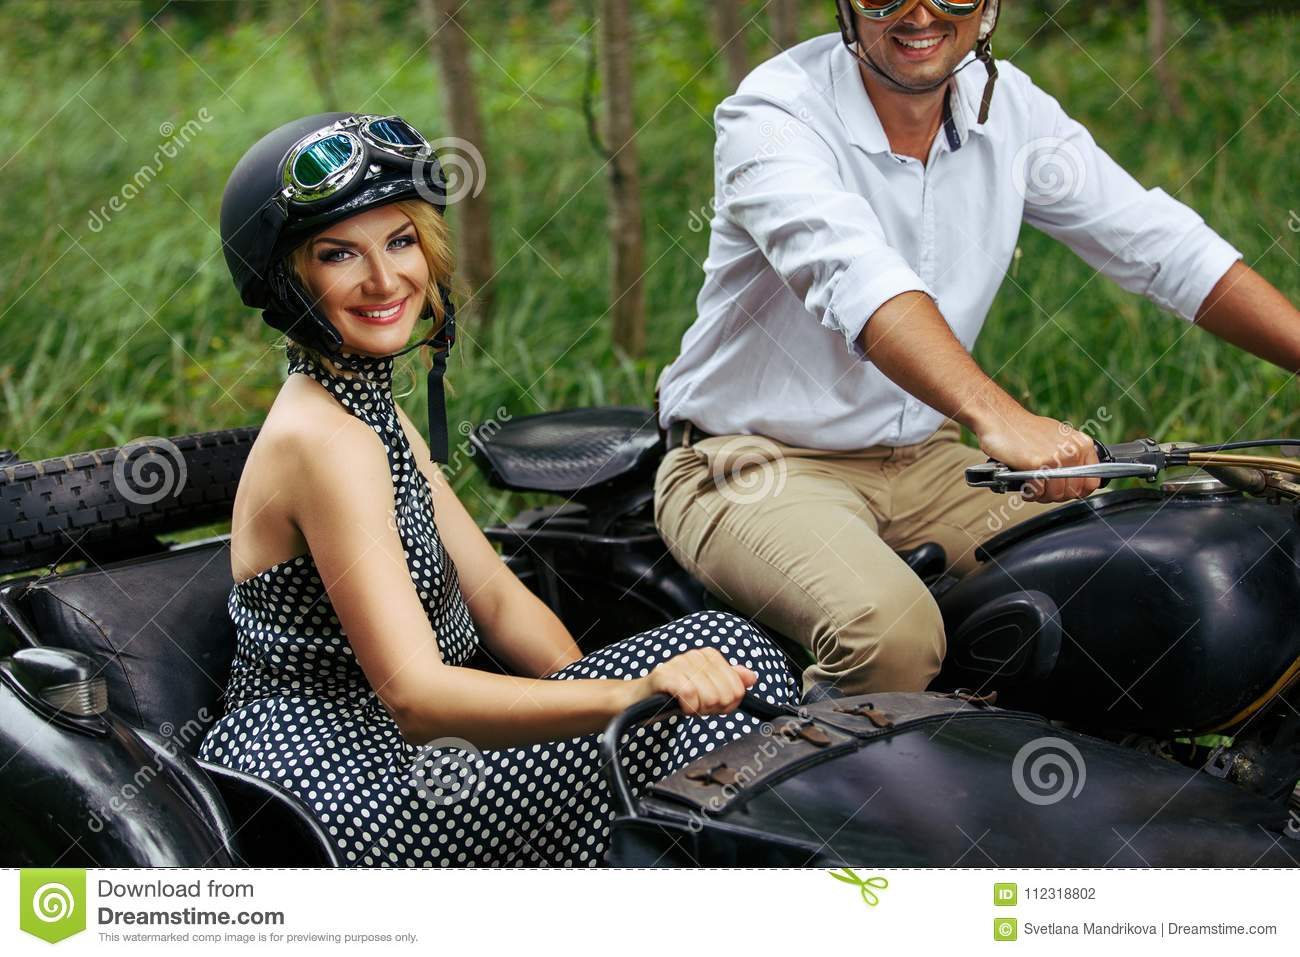with_helmet: (213, 103, 469, 352)
